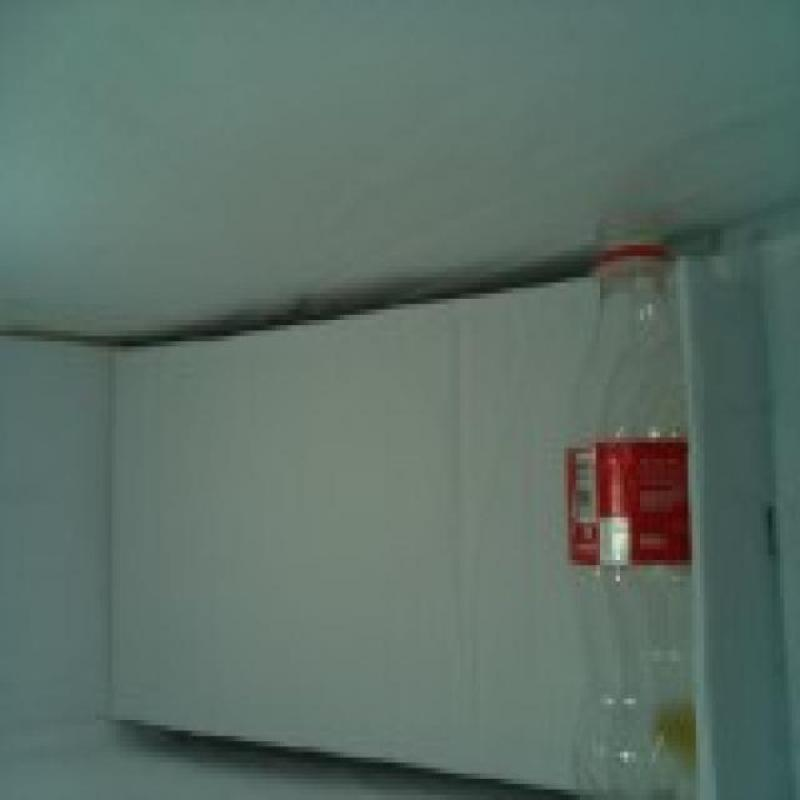botella: (564, 220, 698, 800)
